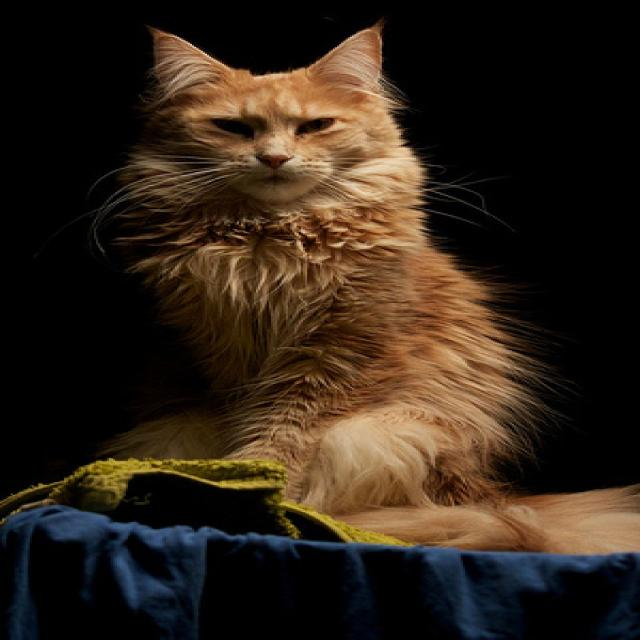Maine Coon: (98, 18, 640, 560)
